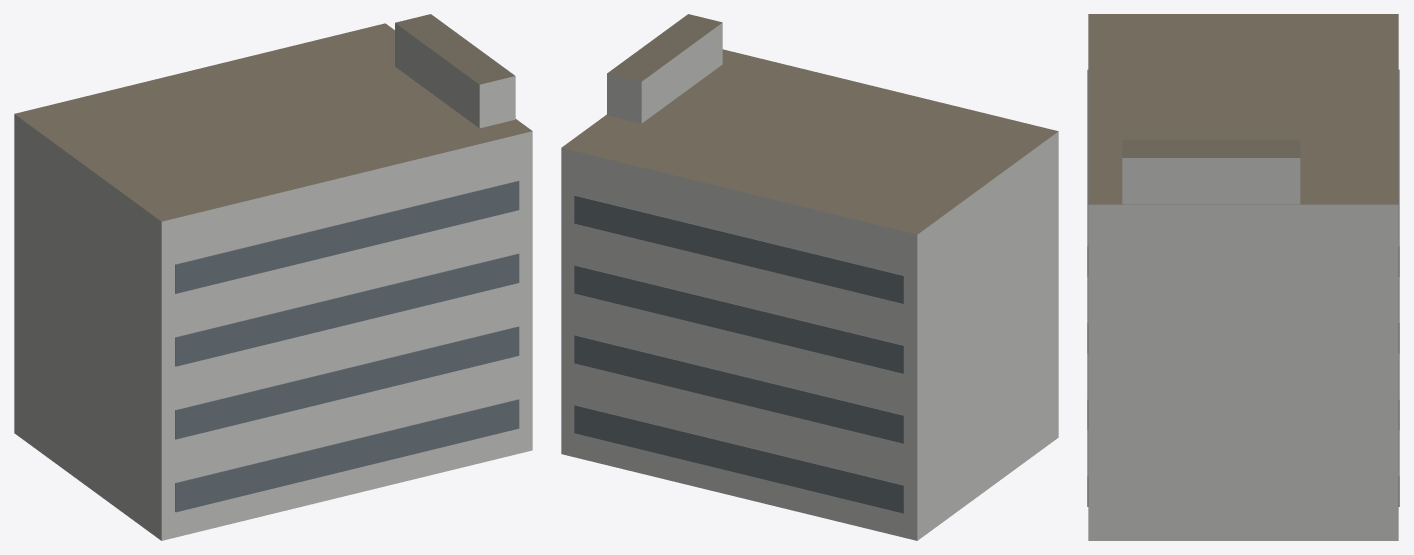
The model's file is bay-apartments.tone-v1.lod2.glb.
The picture shows the model from 3 angles, left to right: view 1: azimuth 30°, elevation 25°; view 2: azimuth 150°, elevation 25°; view 3: azimuth 270°, elevation 25°; orthographic projection. The views are drawn at different scales.
Visible parts, largest first — view 1: bay-apartments; view 2: bay-apartments; view 3: bay-apartments.
Boxes of the visible parts, x1,y1,x2,y2 form: bay-apartments: (14, 14, 532, 540); bay-apartments: (561, 14, 1058, 540); bay-apartments: (1087, 14, 1399, 540).
Bounding box in the file's own units: 16 × 14.95 × 11.06.
